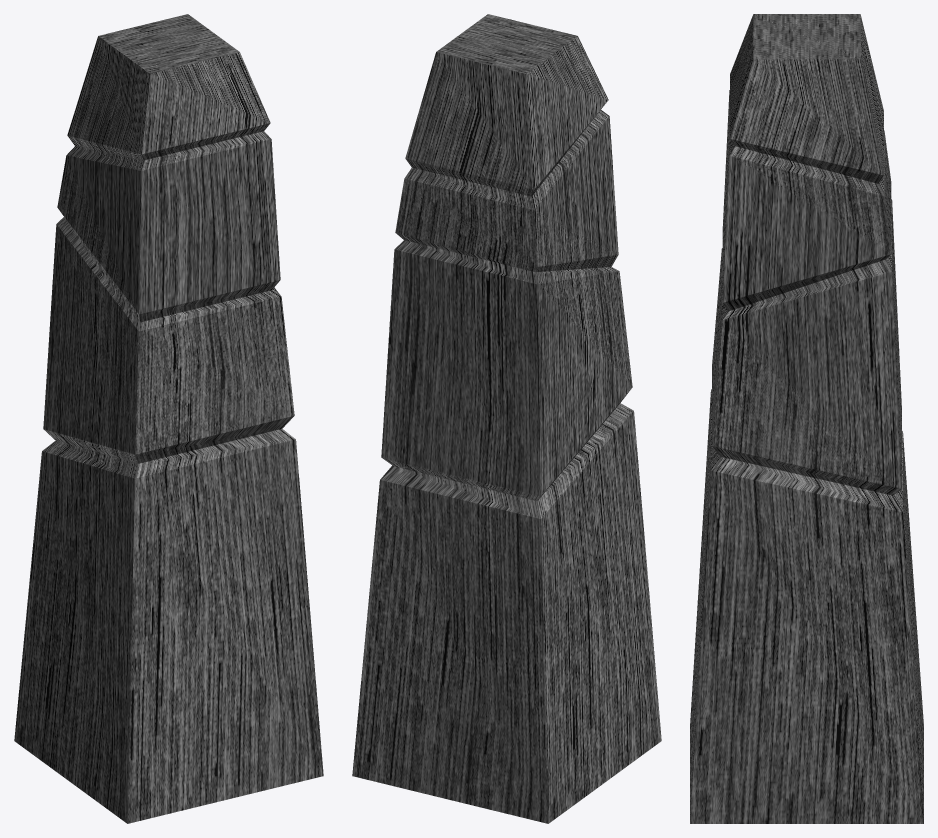
File: kolumna.obj
3 renders of one model, left to right at view 1: azimuth 30°, elevation 25°; view 2: azimuth 150°, elevation 25°; view 3: azimuth 270°, elevation 25°, orthographic. The views are drawn at different scales.
Parts seen in each view (by area): view 1: Cube.001; view 2: Cube.001; view 3: Cube.001.
Part boxes in pixels (box(x1,y1,x2,y2)): Cube.001: box(14, 14, 323, 823); Cube.001: box(352, 14, 661, 823); Cube.001: box(690, 14, 923, 823).
Size of the model in its own units: 2.85 by 9.91 by 2.85.
1 material, 1 textured.
